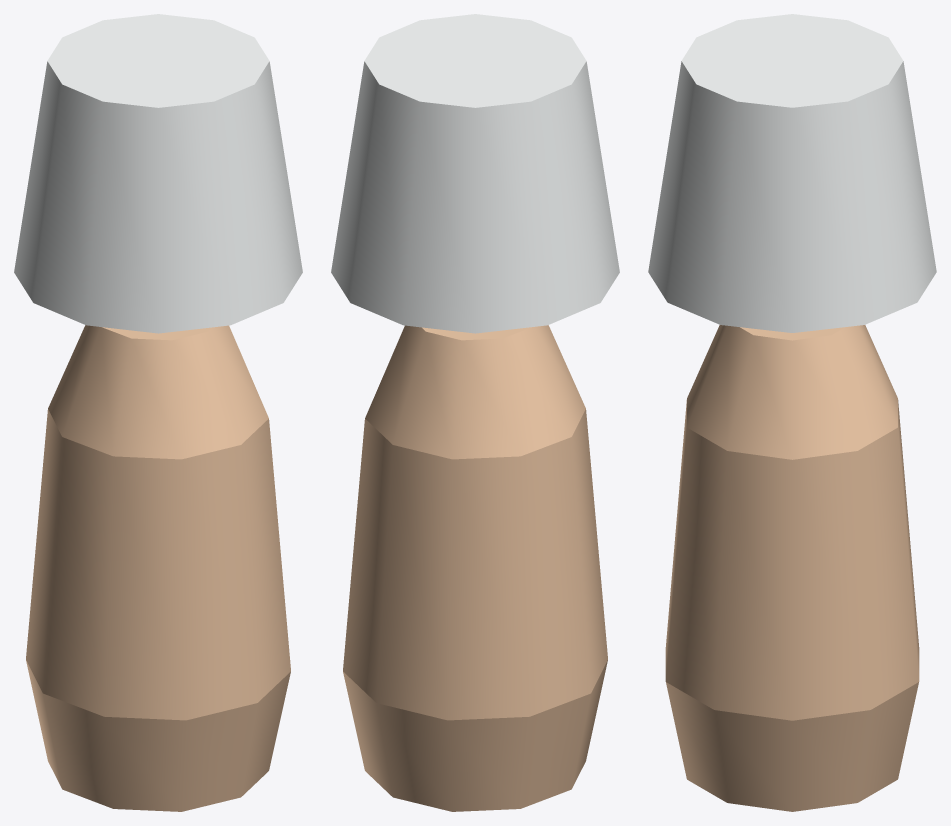
The model's file is floorLampRattan.glb.
The picture shows the model from 3 angles, left to right: view 1: azimuth 30°, elevation 25°; view 2: azimuth 150°, elevation 25°; view 3: azimuth 270°, elevation 25°; orthographic projection.
Visible parts, largest first — view 1: floorLampRattan; view 2: floorLampRattan; view 3: floorLampRattan.
Boxes of the visible parts, x1,y1,x2,y2 form: floorLampRattan: (14, 14, 302, 811); floorLampRattan: (331, 14, 619, 811); floorLampRattan: (648, 14, 936, 811).
Size of the model in its own units: 0.26 by 0.7 by 0.26.
